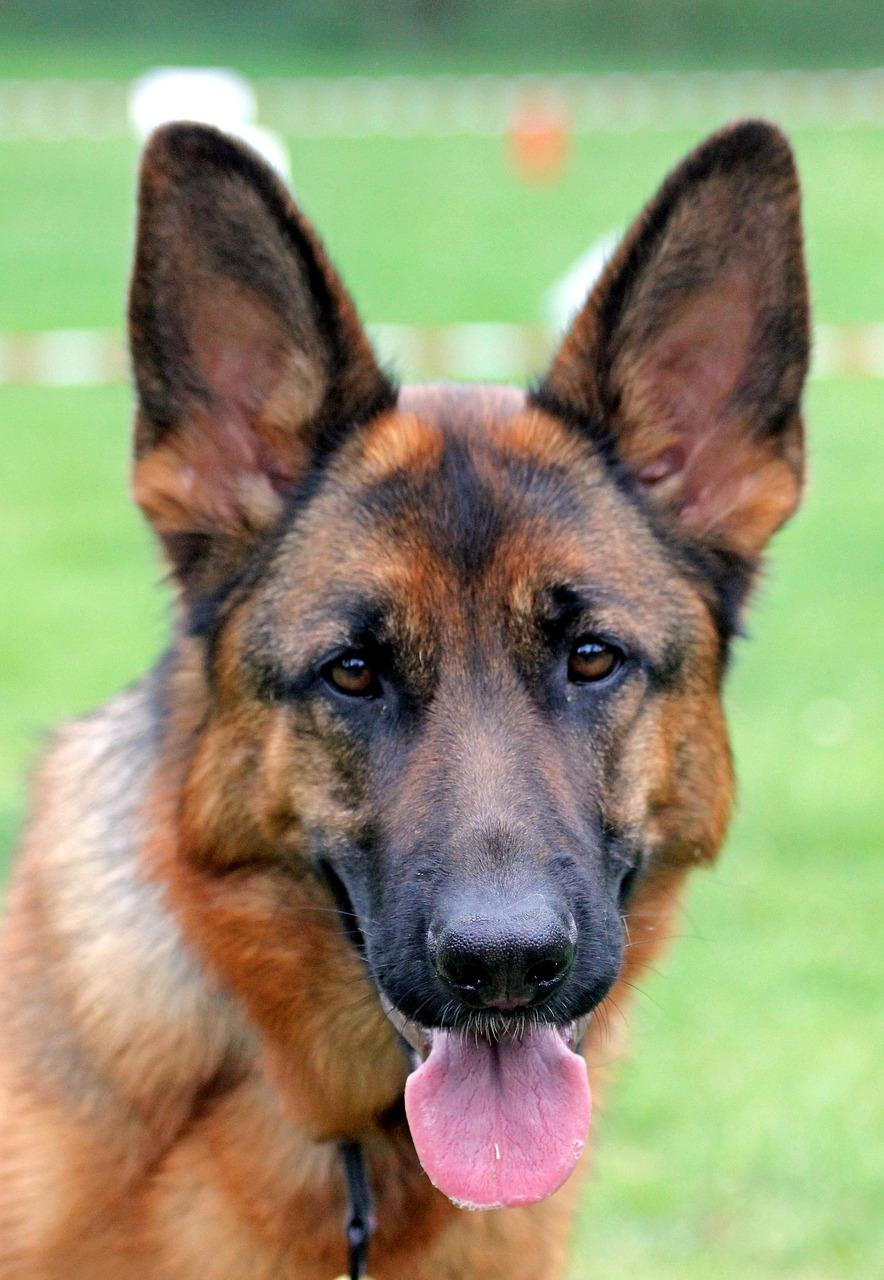german_shepherd: (150, 116, 810, 1171)
